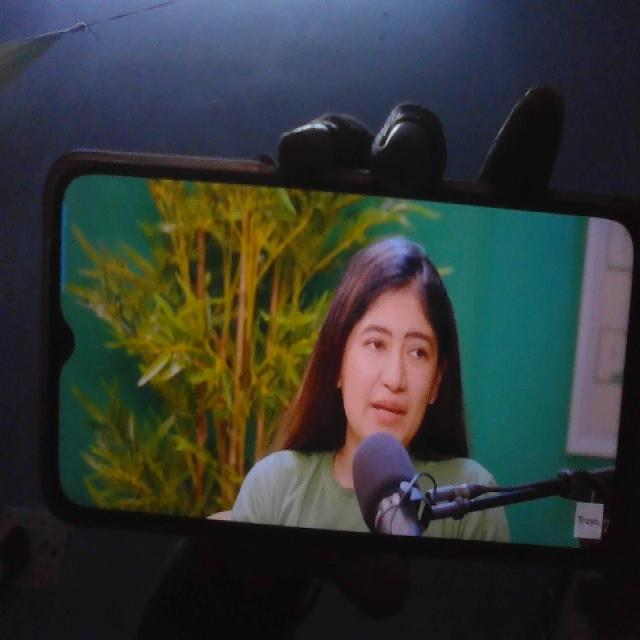fake: (327, 226, 448, 454)
